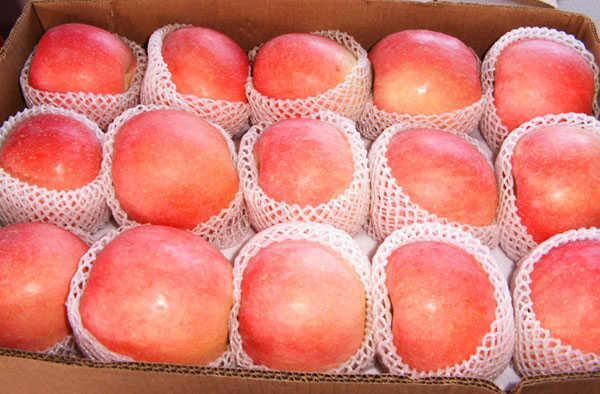apple: (71, 232, 235, 366), (246, 223, 384, 376), (367, 127, 499, 240), (114, 107, 237, 221), (390, 239, 496, 368), (1, 222, 93, 352), (368, 26, 481, 116), (512, 121, 598, 237), (252, 117, 355, 206), (493, 38, 594, 128), (2, 115, 103, 193), (154, 21, 248, 104), (534, 240, 600, 355), (29, 21, 132, 93), (253, 31, 358, 100)
